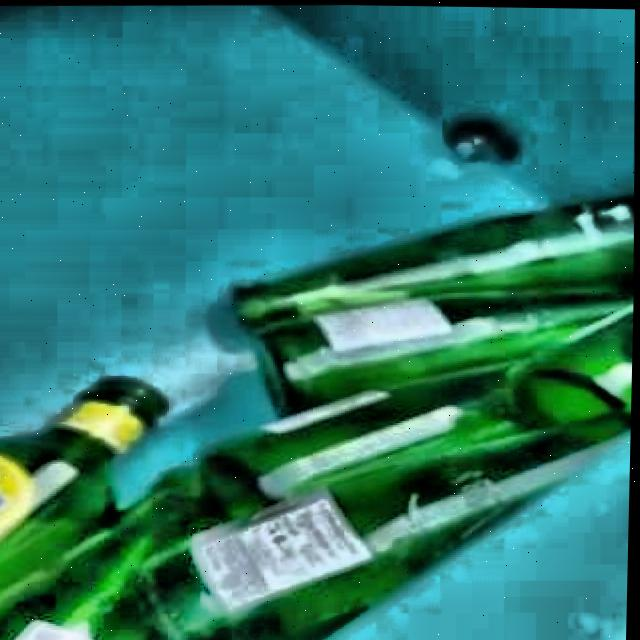glass: (0, 197, 634, 640)
